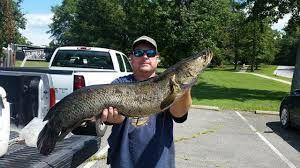Snakehead: (31, 47, 215, 153)
